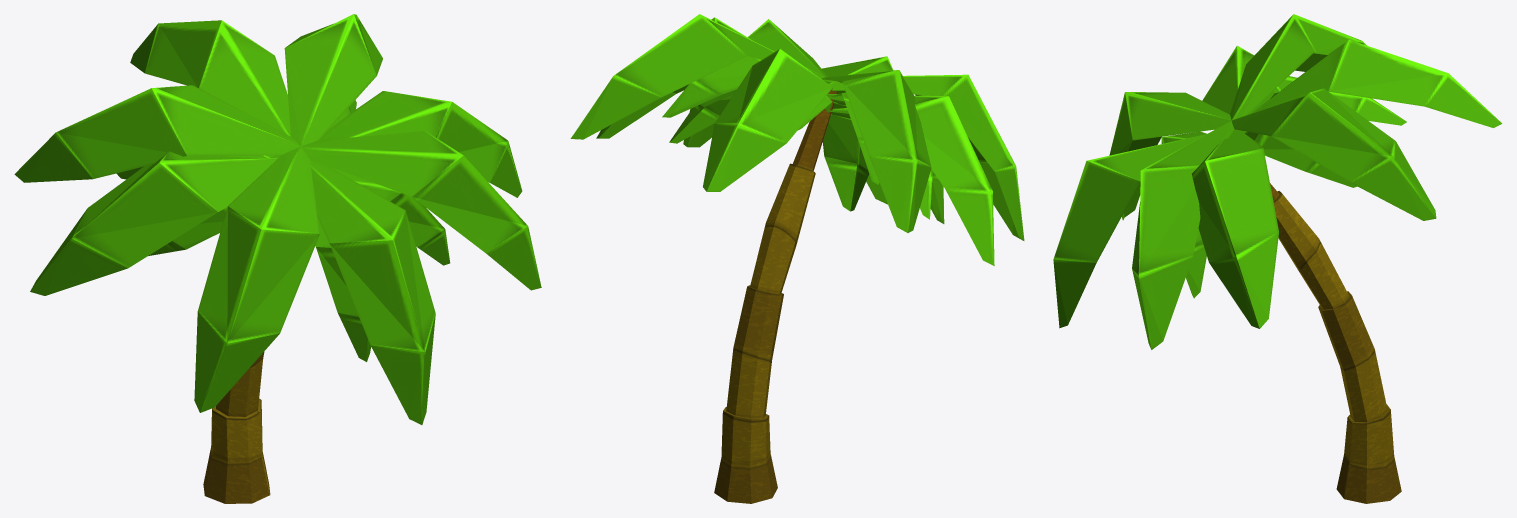
File: palmera3_v2_tex.fbx
The picture shows the model from 3 angles, left to right: view 1: azimuth 30°, elevation 25°; view 2: azimuth 150°, elevation 25°; view 3: azimuth 270°, elevation 25°; orthographic projection. The views are drawn at different scales.
Visible parts, largest first — view 1: palmera3; view 2: palmera3; view 3: palmera3.
Boxes of the visible parts, bbox=[...] form: palmera3: bbox=[14, 14, 541, 503]; palmera3: bbox=[570, 14, 1024, 503]; palmera3: bbox=[1053, 14, 1502, 503].
Bounding box in the file's own units: 1022 × 1016 × 941.
2 materials, 2 textured.
